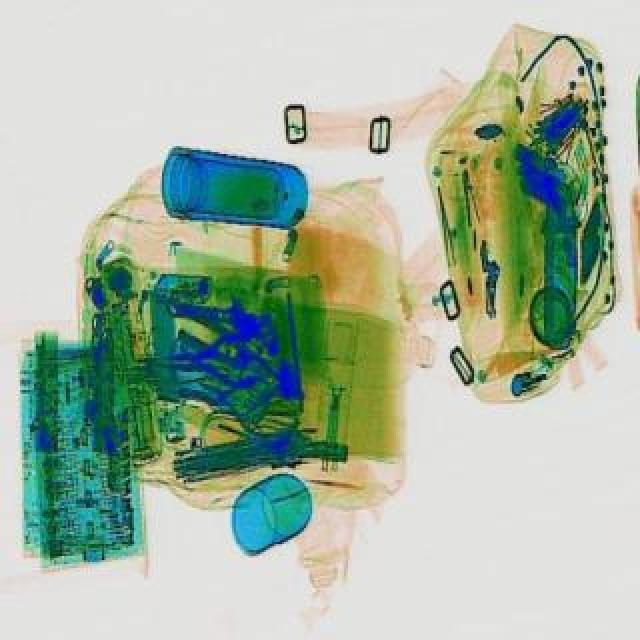scissors: (160, 288, 260, 332)
wrench: (158, 330, 254, 382)
